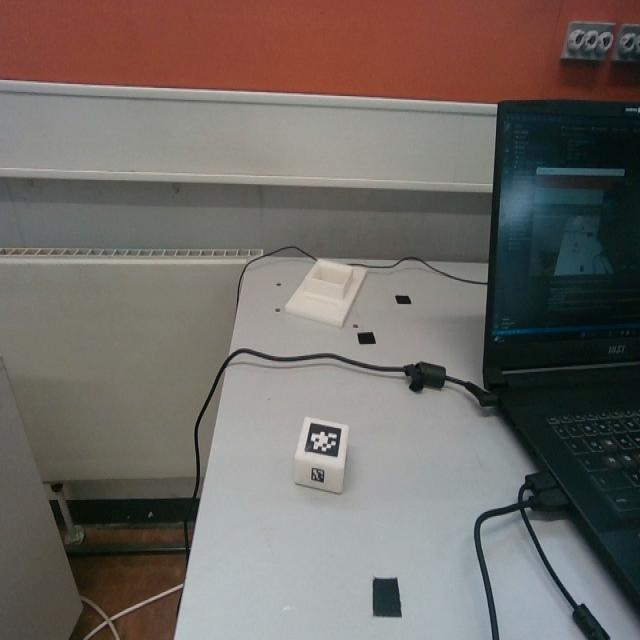Cube: (293, 414, 351, 494)
